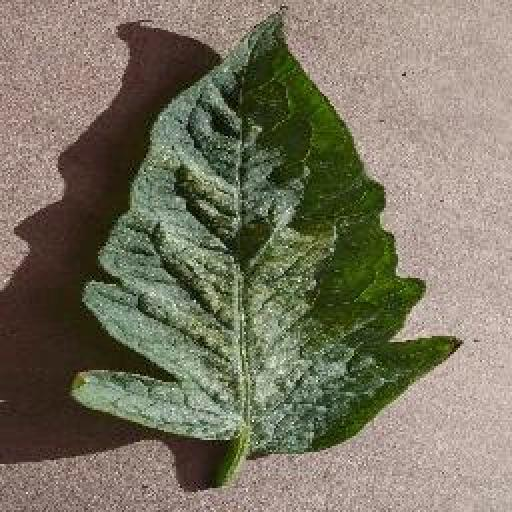disease_tomato: (75, 2, 464, 458)
